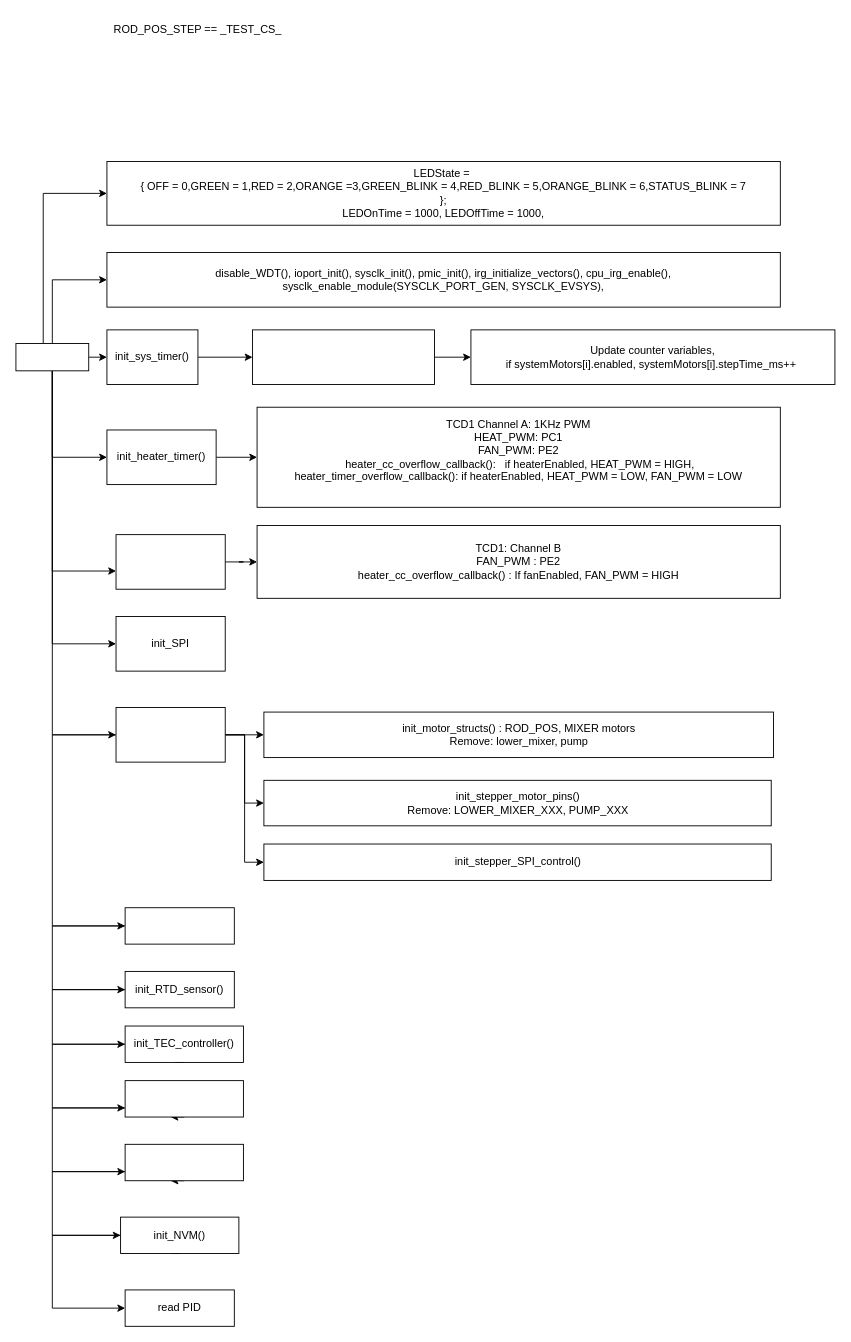
Some shapes in this 851 by 1342 pixel diagram are drawn without their labels. Each missing label, with the box of its shape:
init_ADC(): (124, 1080, 243, 1117)
init_DMA(): (124, 1143, 243, 1181)
init_fan_timer(): (115, 534, 225, 589)
init_IO(): (115, 707, 225, 762)
init_USB(): (124, 907, 234, 944)
real_main: (15, 343, 89, 371)
TTC1: 1ms overflow interrupt sys_clk_overflow_callback(): (252, 329, 435, 384)
